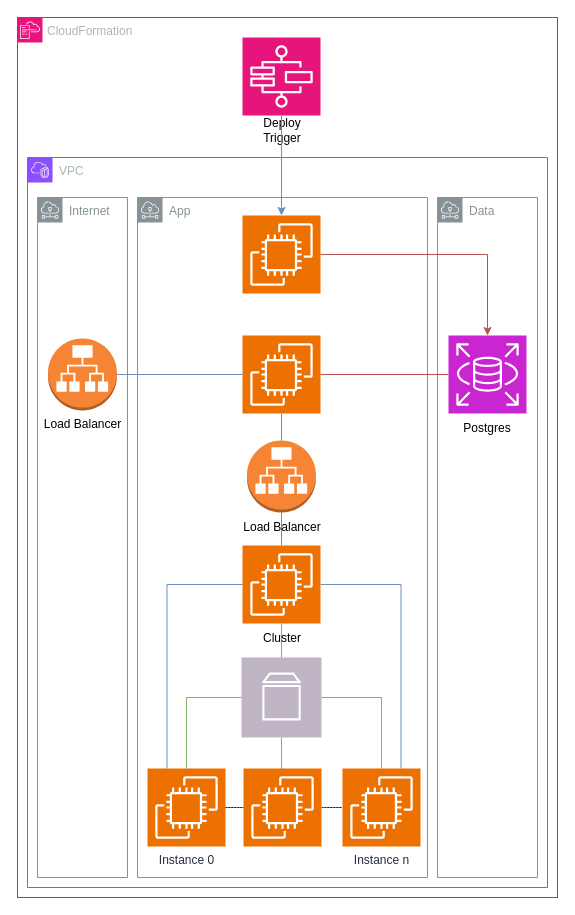
Some shapes in this 575 by 915 pixel diagram are drawn without their labels. The shapes that lost their labels are listed below. From the top down, each one's box as (x1, y1, x2, y2) in pixels, then its label:
(242, 214, 320, 294): Prisma
(242, 334, 320, 414): Server
(250, 666, 312, 726): Shared Volume
(242, 768, 322, 846): Instance i
